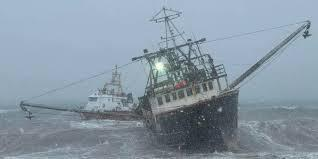Ship: (15, 4, 314, 154), (80, 67, 145, 125)
